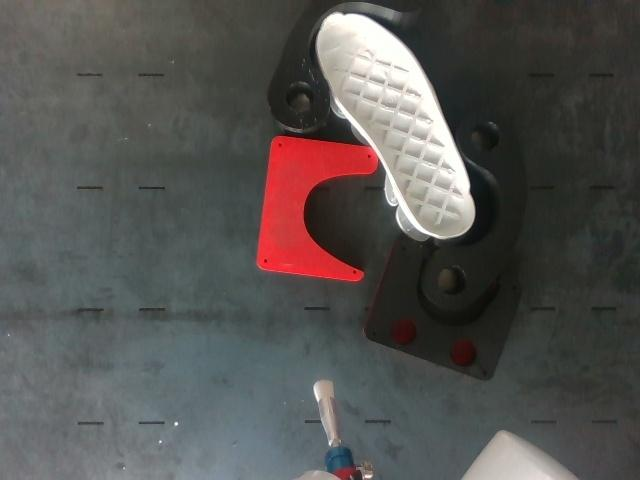shoes: (318, 14, 475, 237)
